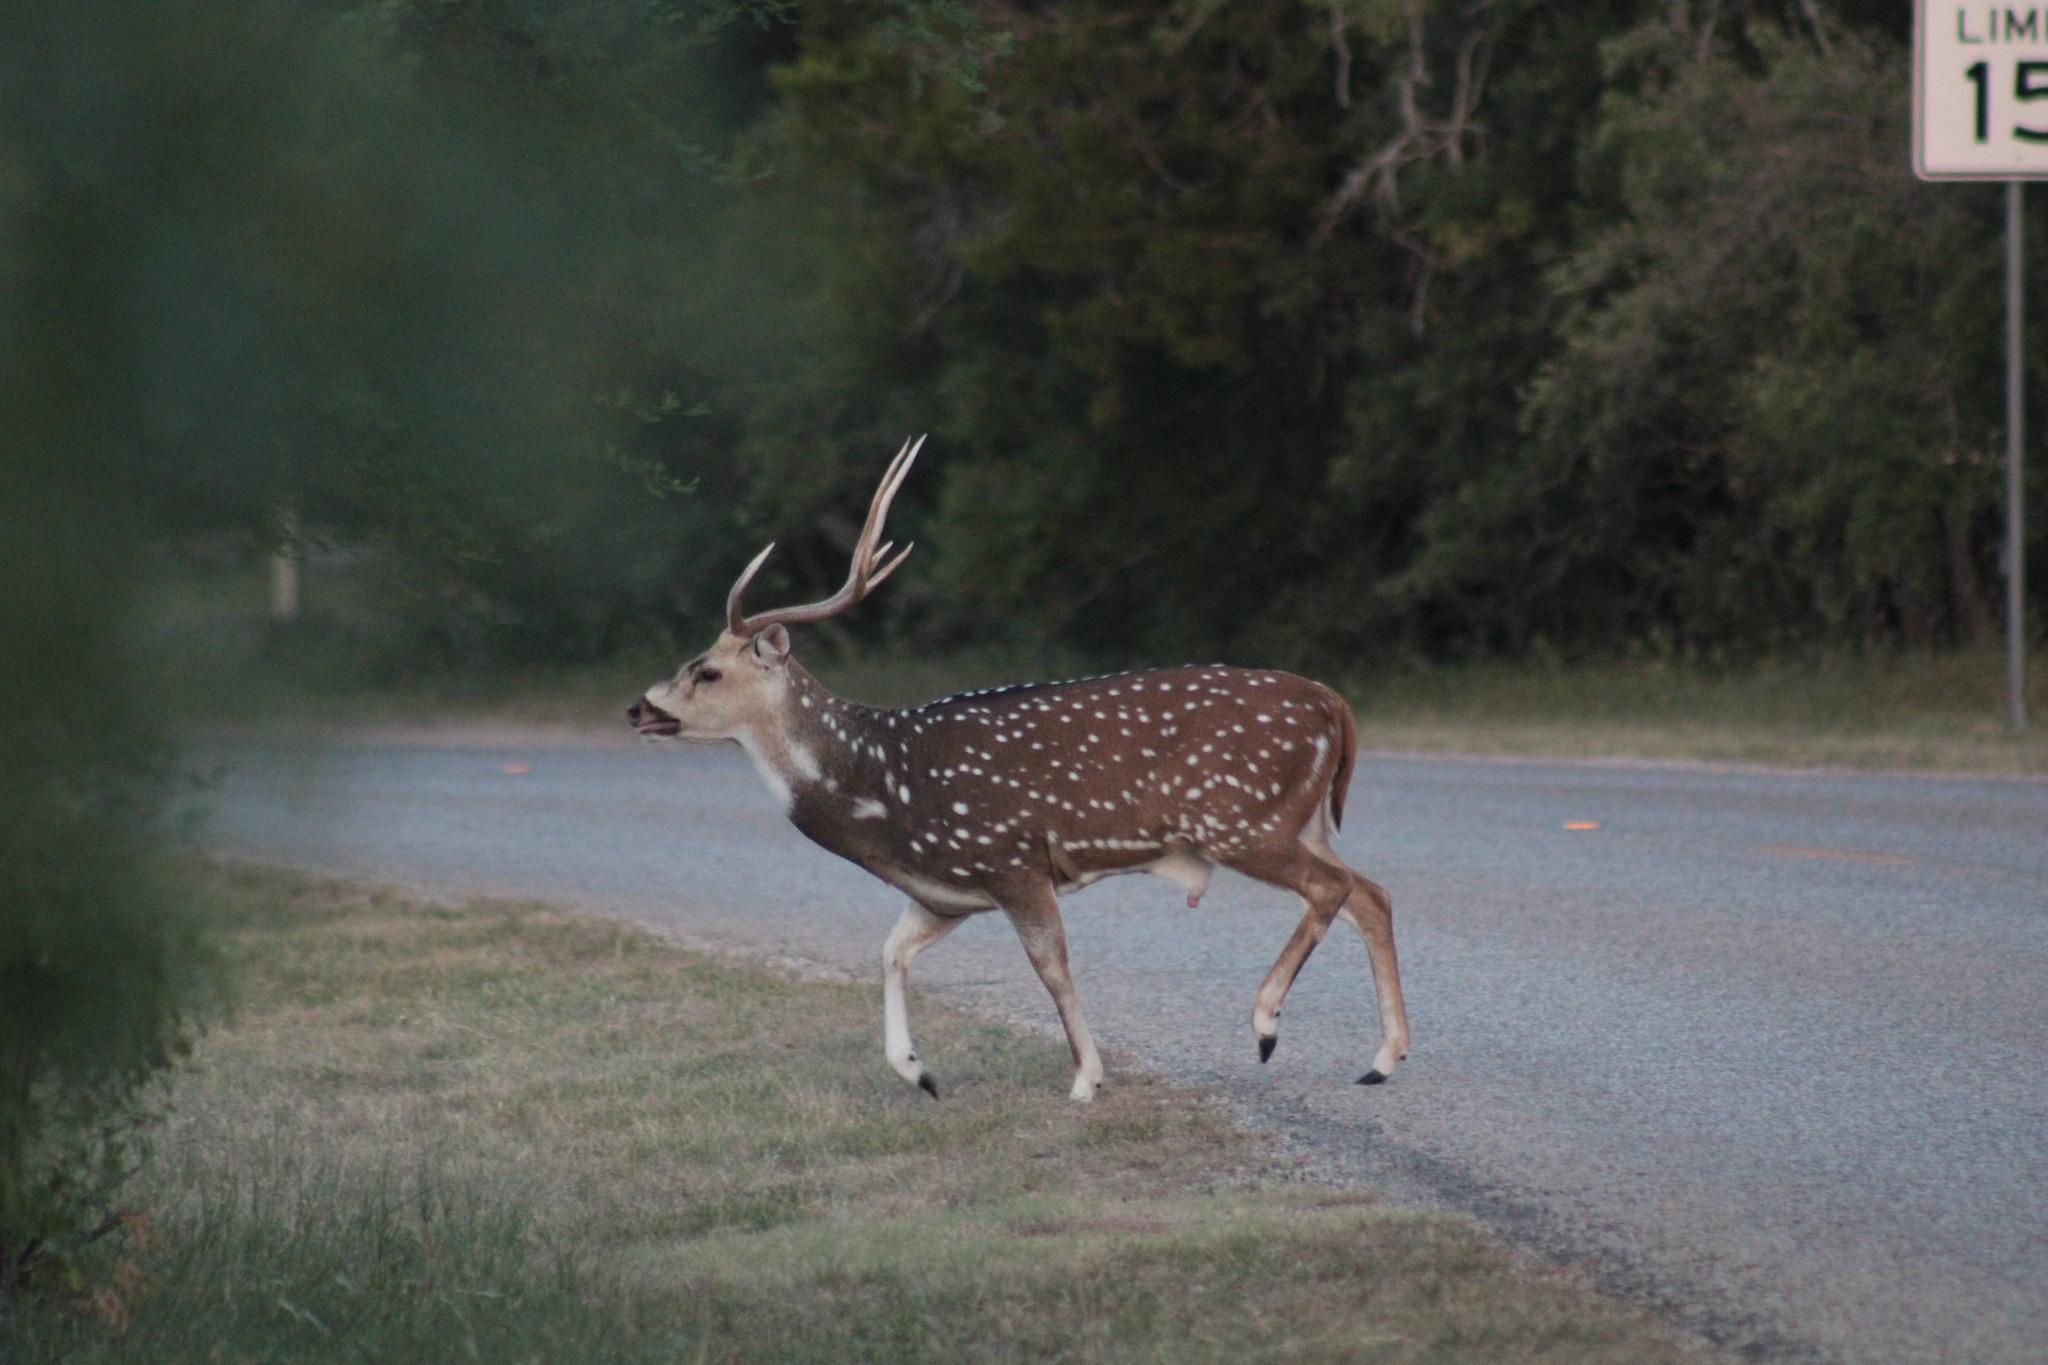Deer: (627, 436, 1408, 1100)
